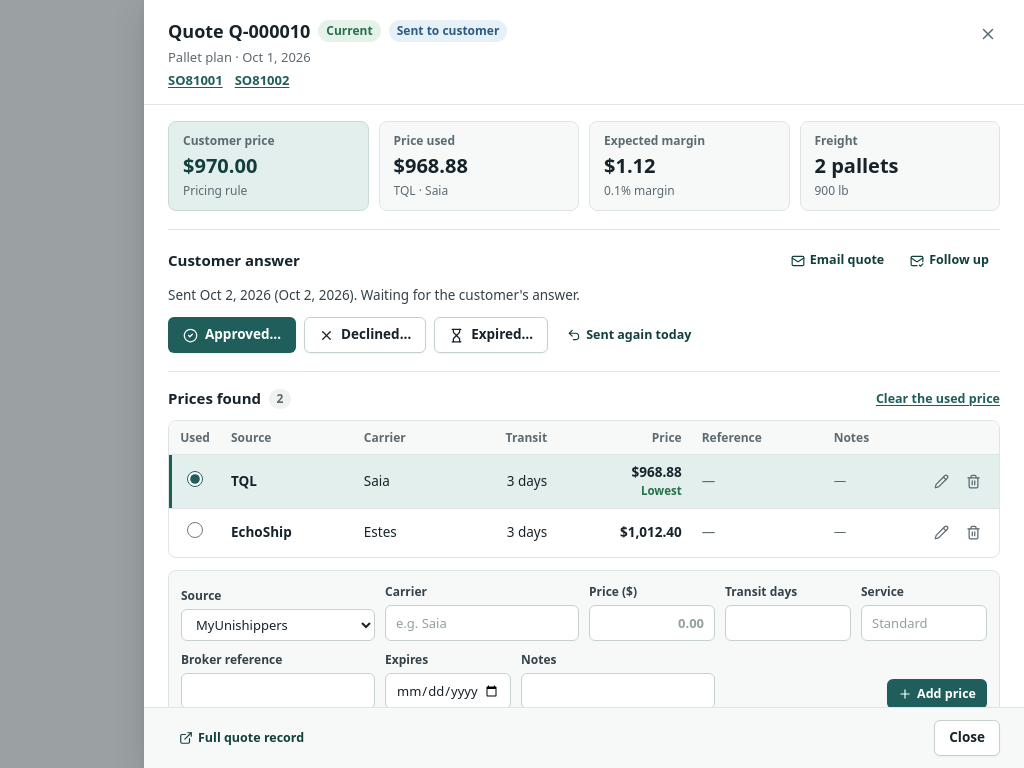
QuoteDetail › approves with one invoice field per order and links the new shipment
The width and height of the screenshot is (1024, 768).
Click the button "Approved…": coordinates (232, 335) [168,317,296,353]
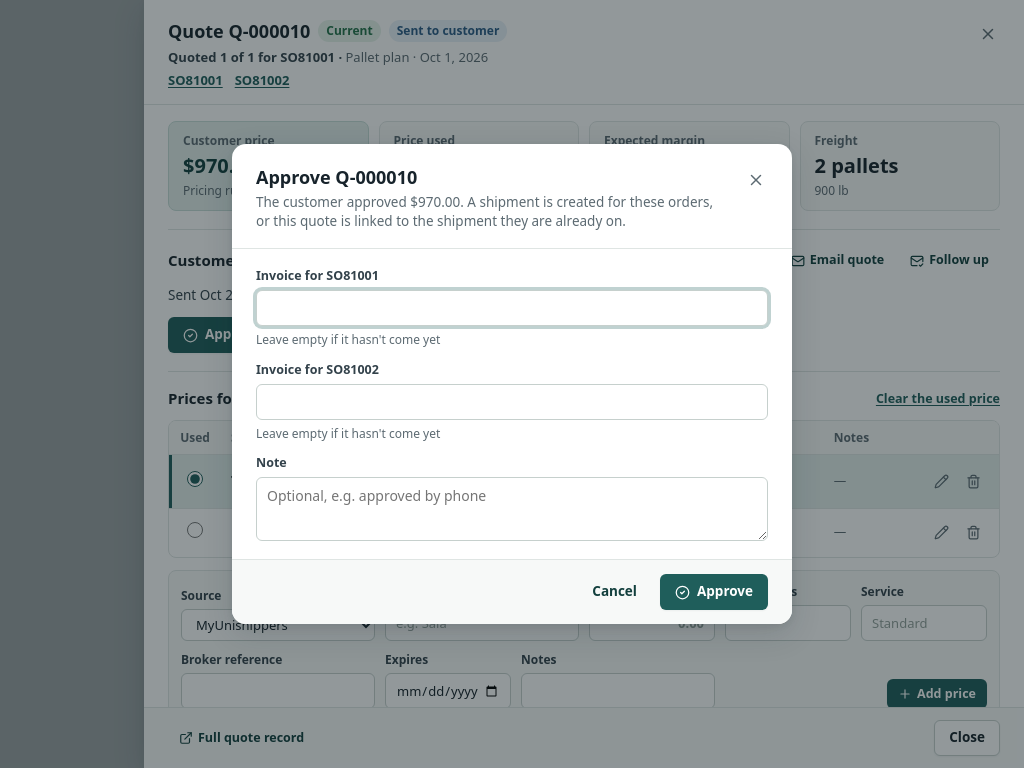
In the field labelled "Invoice for SO81001 Leave empty if it hasn't come yet": coordinates (512, 308) [256,290,768,326], type "68801"
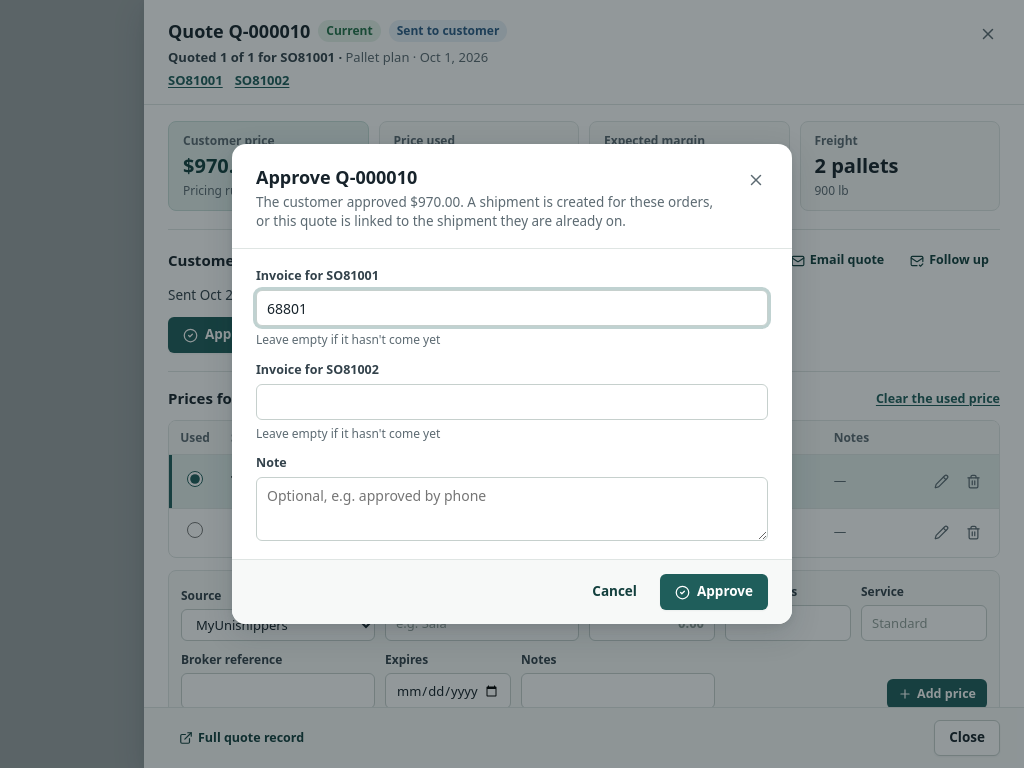
In the field labelled "Invoice for SO81002 Leave empty if it hasn't come yet": coordinates (512, 402) [256,384,768,420], type "68802, 68803"
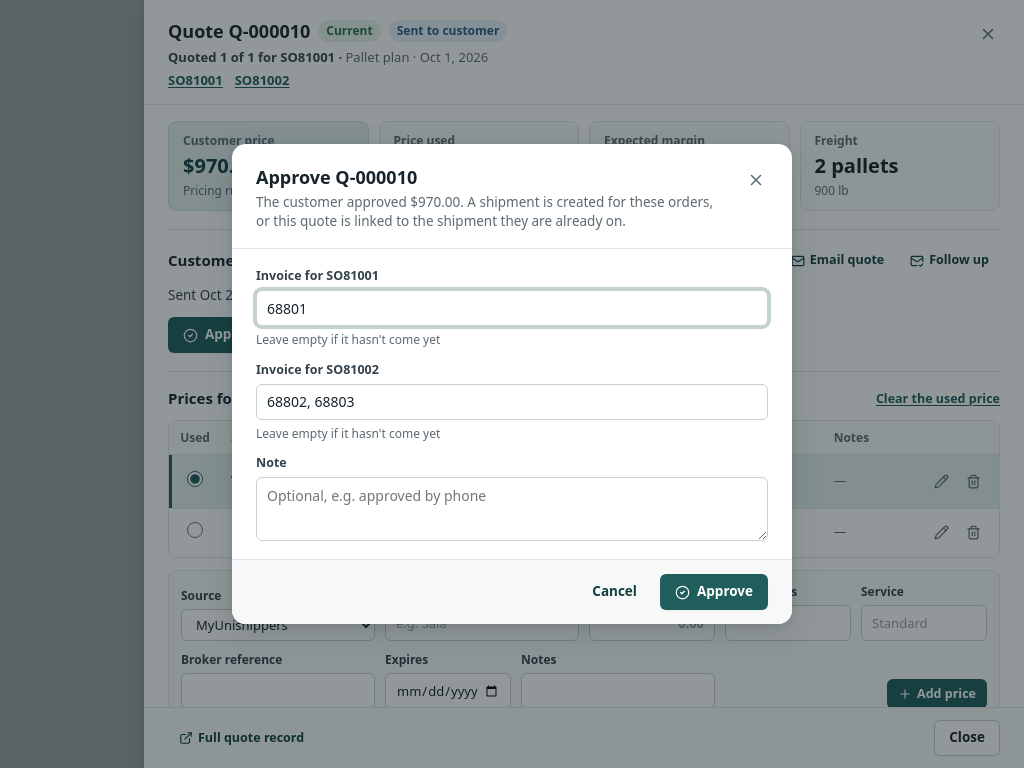
Click the button "Approve": coordinates (714, 592) [660,574,768,610]
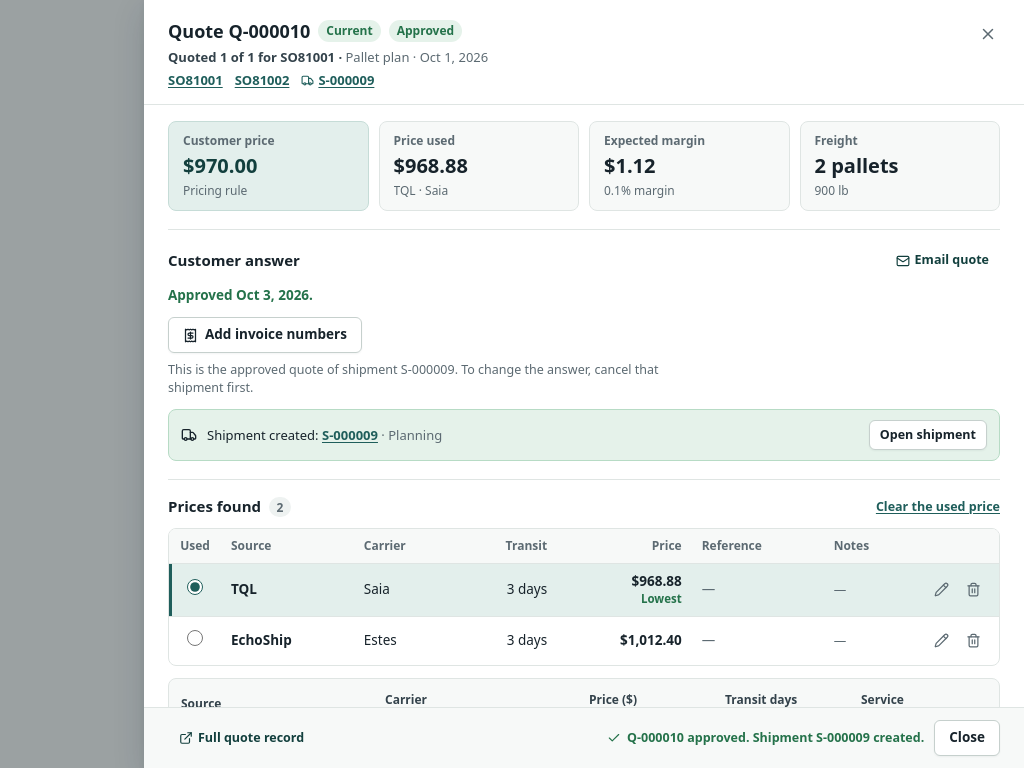
Check: the text "Shipment created: S-000009 · Planning" is shown, box [207,426,442,444]
Check: the heading "Approve Q-000010" is gone
